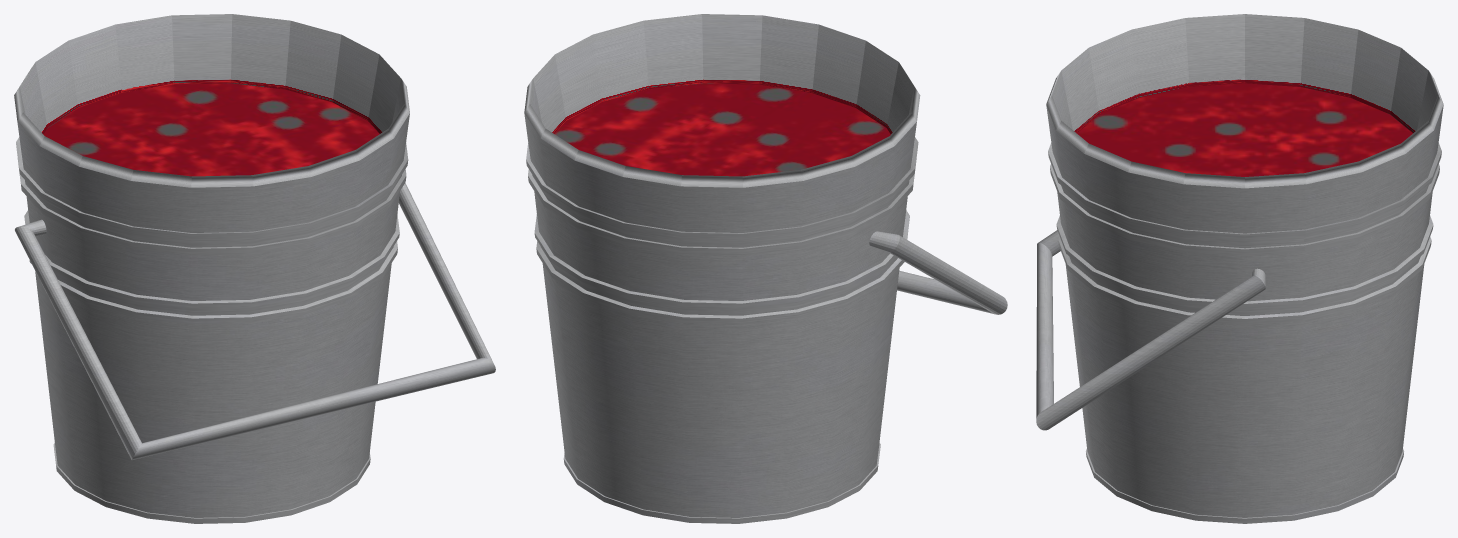
File: BucketWithRedLiquid.fbx
3 views of the same model, side by side, from view 1: azimuth 30°, elevation 25°; view 2: azimuth 150°, elevation 25°; view 3: azimuth 270°, elevation 25° (orthographic).
Visible parts, largest first — view 1: PaintBocket; view 2: PaintBocket; view 3: PaintBocket.
Boxes of the visible parts, x1,y1,x2,y2 form: PaintBocket: (14,14,495,523); PaintBocket: (524,14,1007,523); PaintBocket: (1036,14,1443,523).
Size of the model in its own units: 42.73 by 40.13 by 41.
